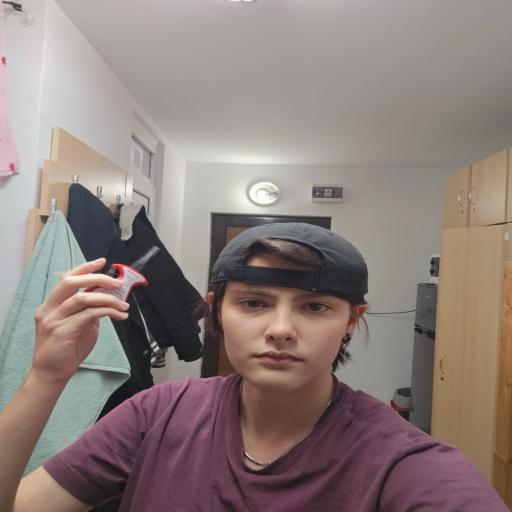Super Glue: (84, 242, 159, 313)
